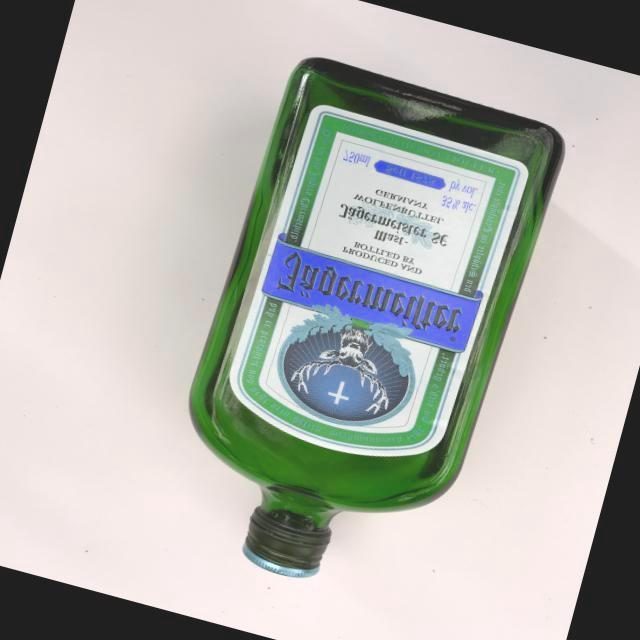glass: (128, 35, 581, 622)
